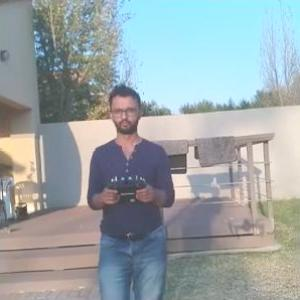follow: (84, 78, 181, 299)
